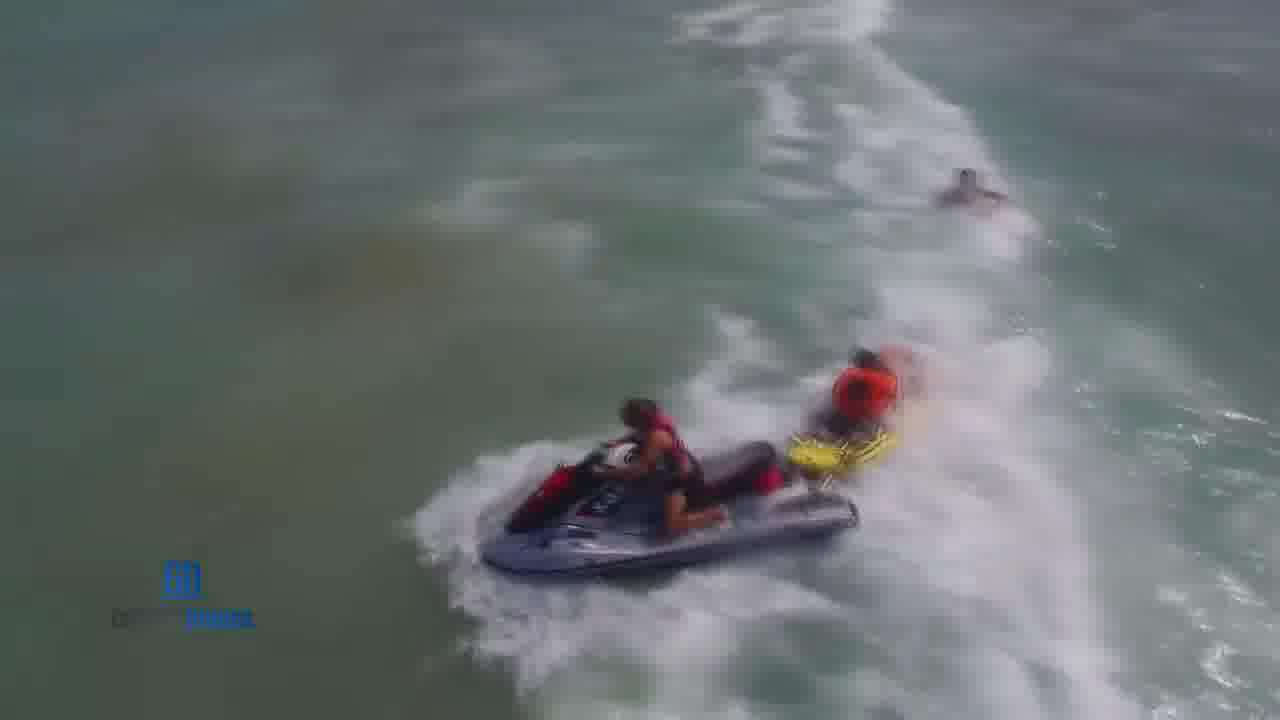swimmer: (917, 161, 1013, 216)
